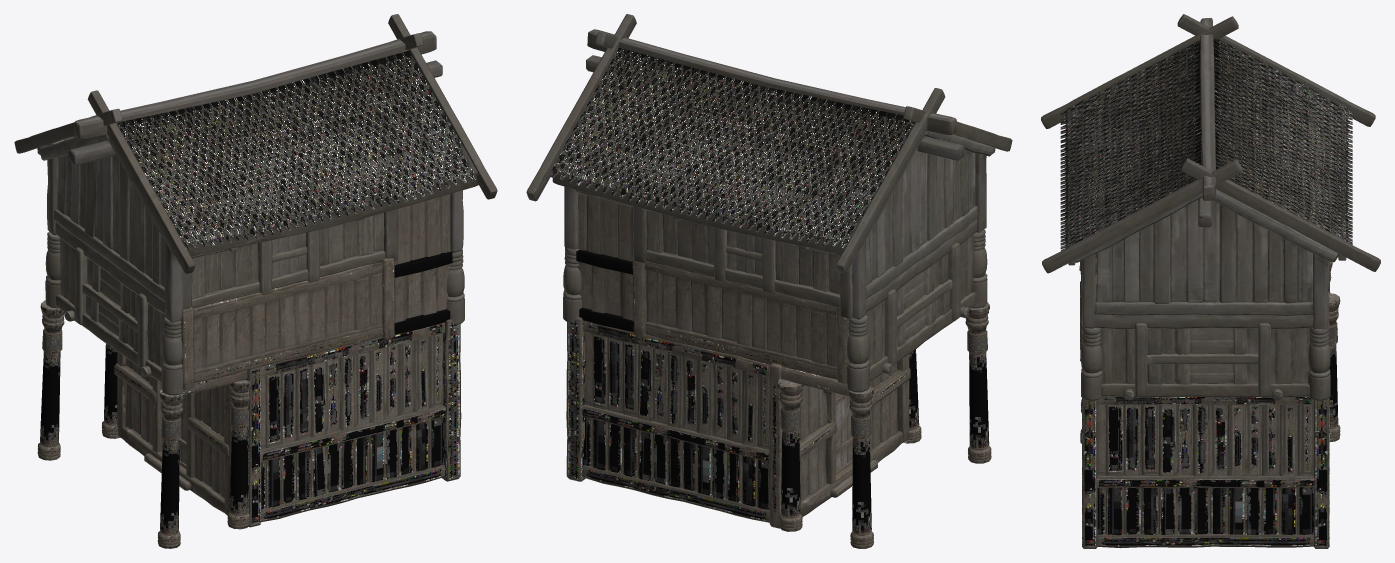
The model's file is build_barracks_single_01_low.glb.
The picture shows the model from 3 angles, left to right: view 1: azimuth 30°, elevation 25°; view 2: azimuth 150°, elevation 25°; view 3: azimuth 270°, elevation 25°; orthographic projection. The views are drawn at different scales.
Parts seen in each view (by area): view 1: build_barracks_single_01; view 2: build_barracks_single_01; view 3: build_barracks_single_01.
Boxes of the visible parts, x1,y1,x2,y2 form: build_barracks_single_01: (14, 14, 497, 548); build_barracks_single_01: (526, 14, 1012, 548); build_barracks_single_01: (1041, 14, 1380, 548).
Size of the model in its own units: 9.9 by 10.34 by 8.06.
2 materials, 2 textured.
